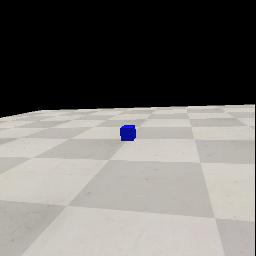box: (120, 125, 136, 141)
